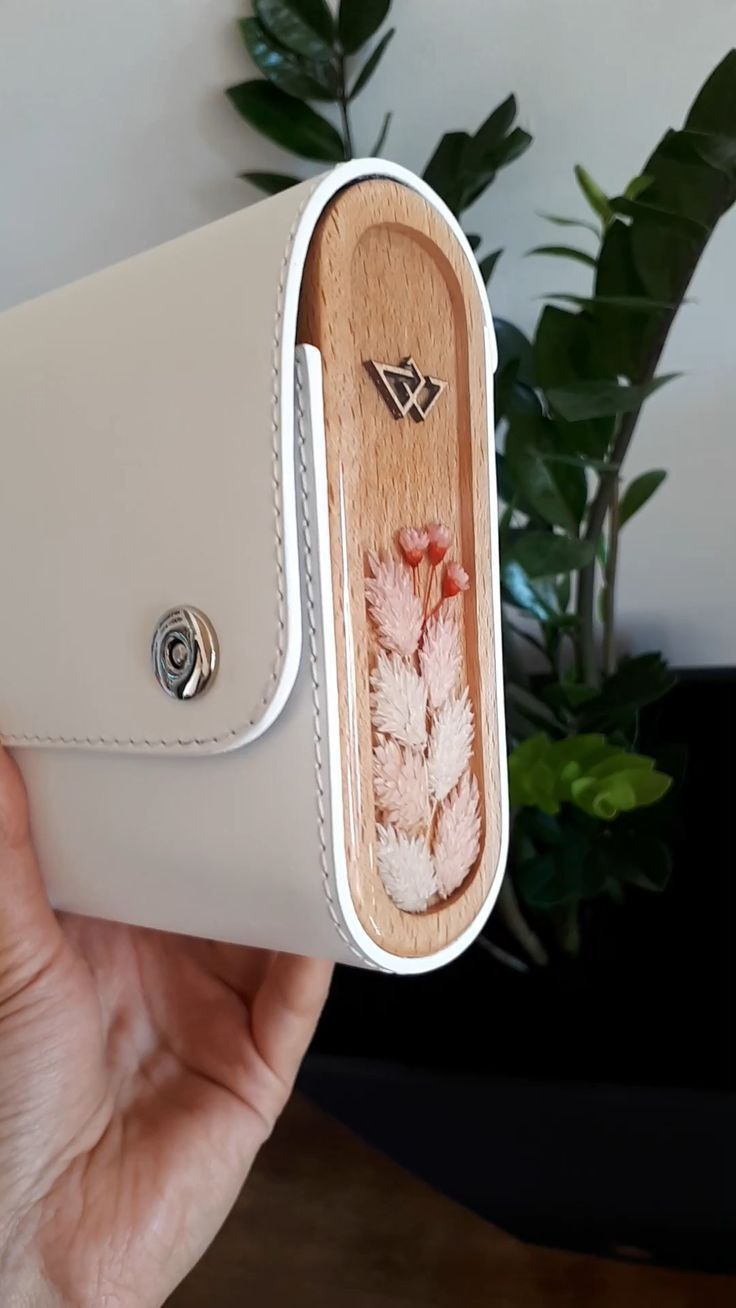cuero: (3, 158, 510, 975)
